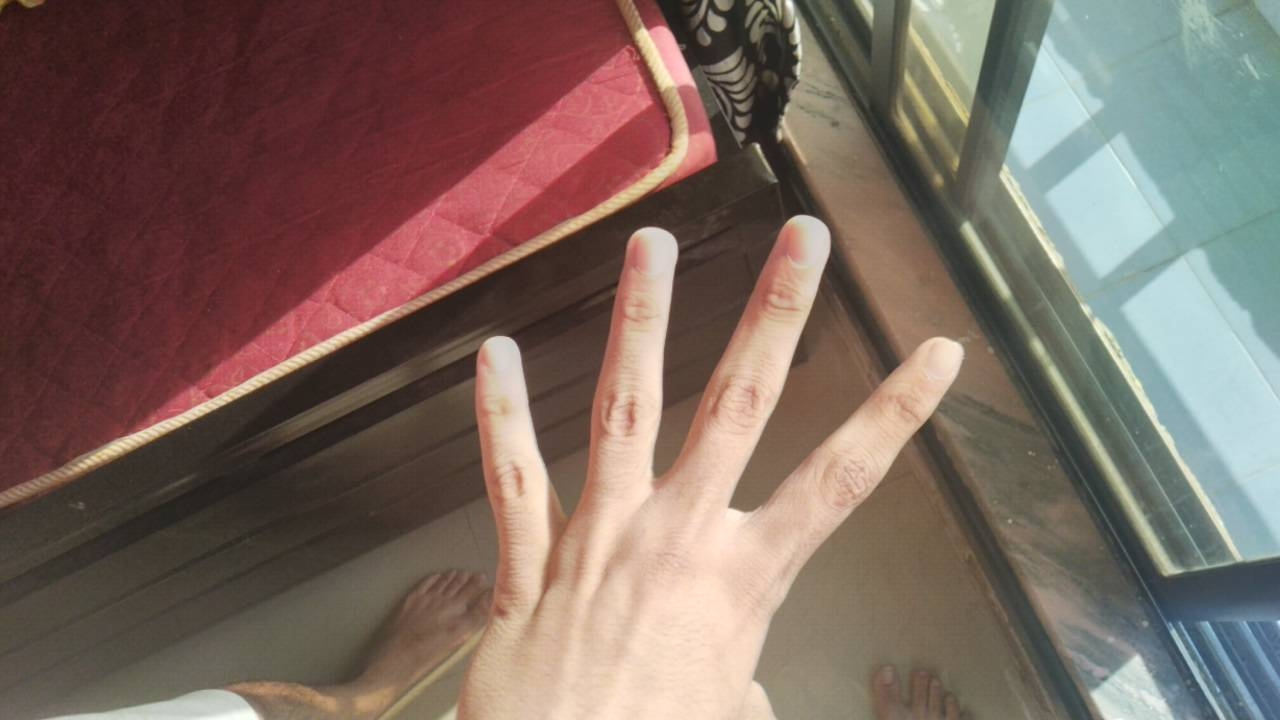fingertip: (904, 328, 980, 394), (772, 206, 840, 274), (614, 220, 678, 286), (462, 330, 528, 392)
